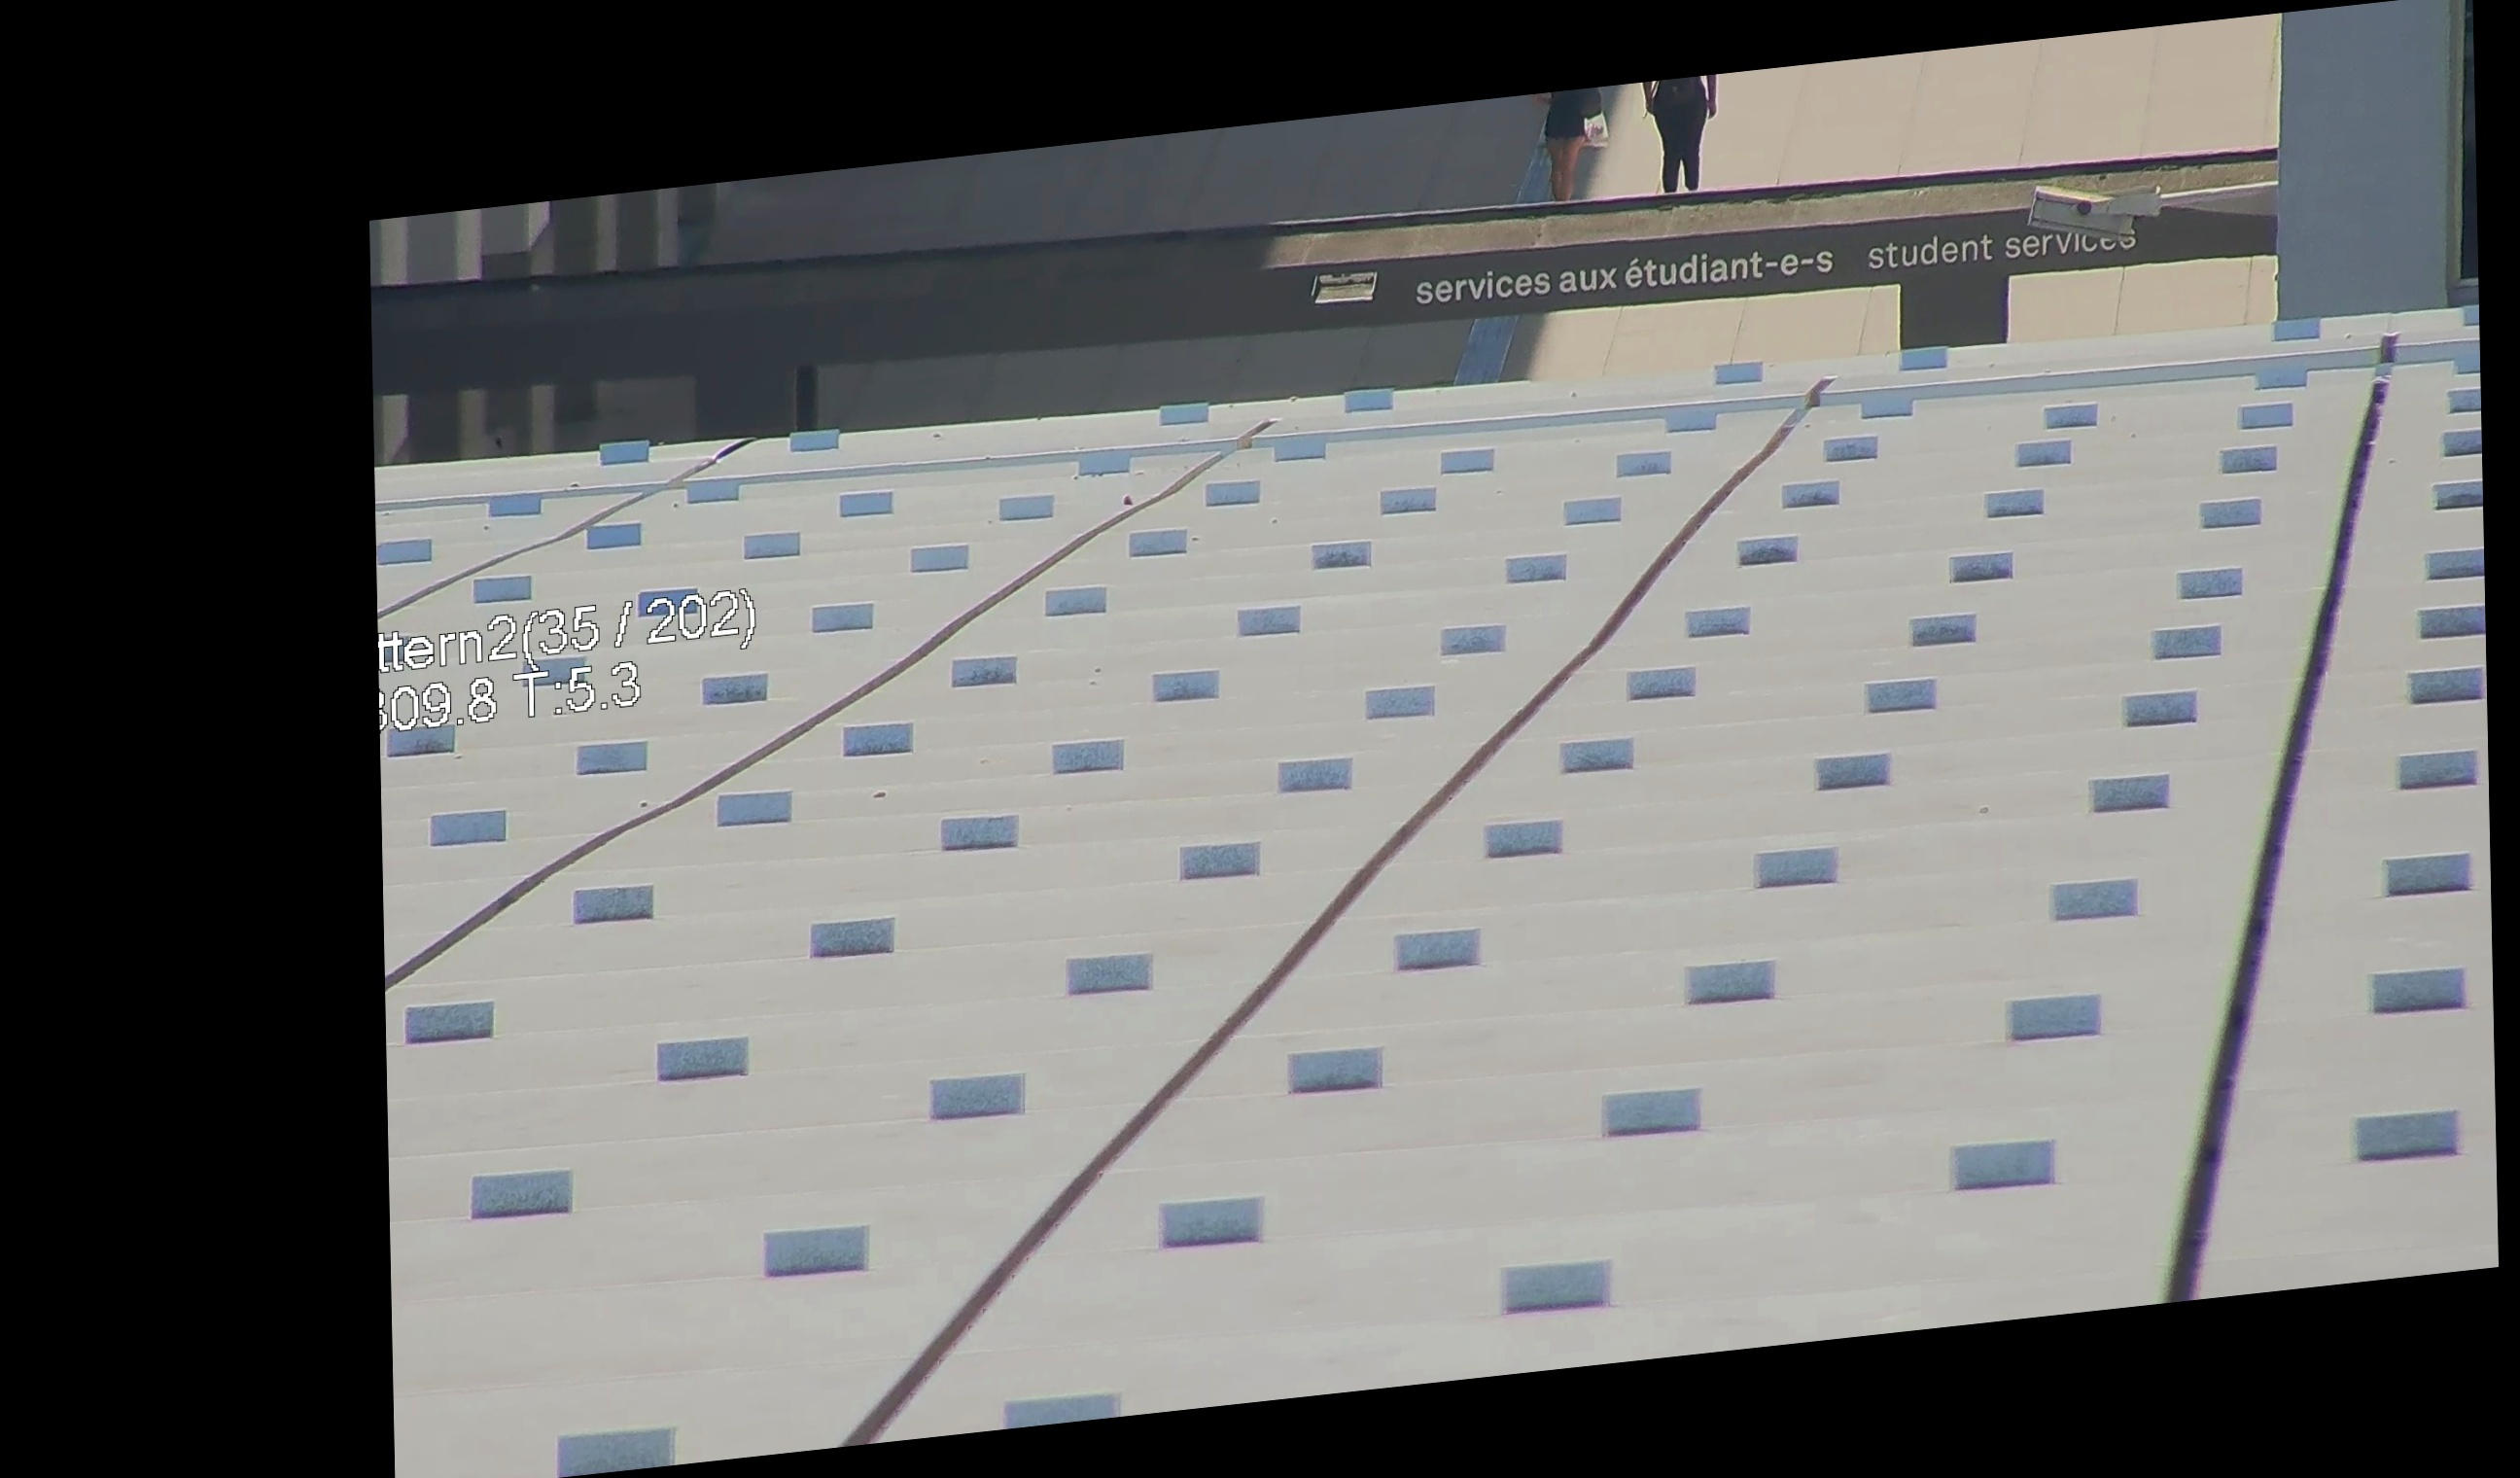Other: (1635, 30, 1736, 197)
